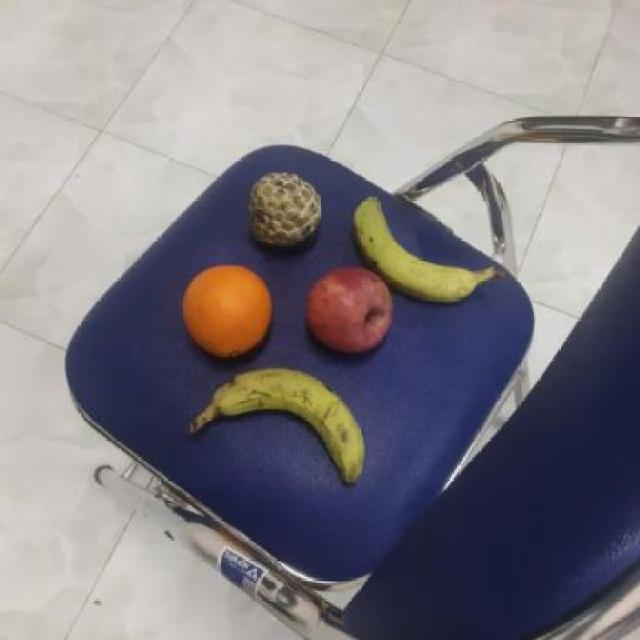apple: (302, 262, 396, 358)
banana: (205, 363, 369, 486), (346, 192, 476, 306)
oren: (178, 262, 274, 362)
sugar apple: (244, 172, 324, 248)
